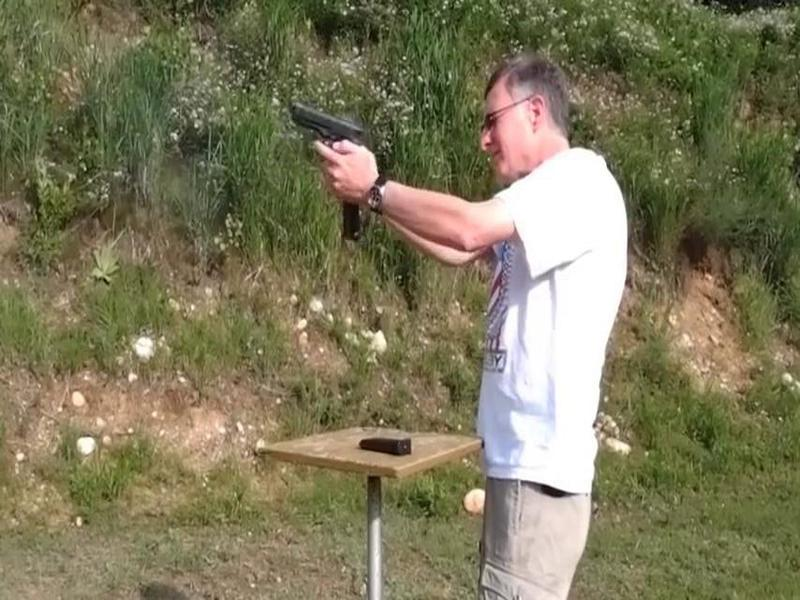Pistola: (279, 94, 387, 199)
